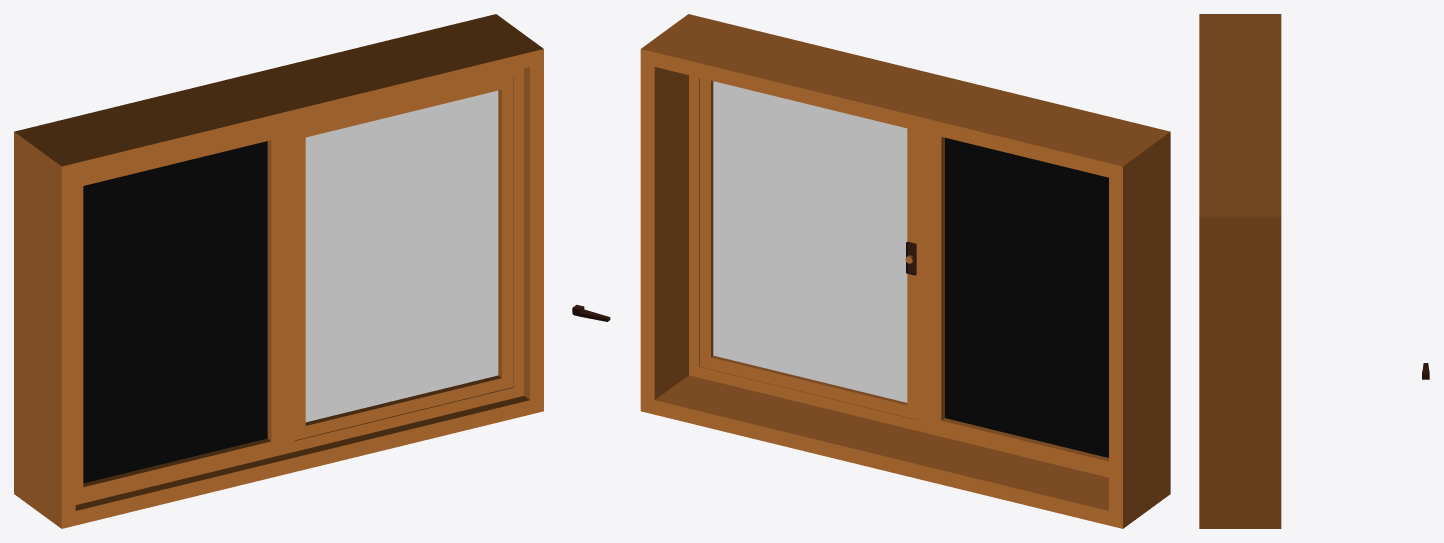
File: Window 8.fbx
3 renders of one model, left to right at view 1: azimuth 30°, elevation 25°; view 2: azimuth 150°, elevation 25°; view 3: azimuth 270°, elevation 25°, orthographic. The views are drawn at different scales.
Parts seen in each view (by area): view 1: Node 1, Node 0, Node 2; view 2: Node 0, Node 1, Node 2; view 3: Node 0.
Part boxes in pixels (x1,y1,x2,y2): Node 1: [75, 68, 523, 504]; Node 0: [14, 14, 543, 528]; Node 2: [295, 76, 513, 440]; Node 0: [640, 14, 1170, 528]; Node 1: [689, 75, 1108, 477]; Node 2: [699, 78, 917, 419]; Node 0: [1199, 14, 1281, 528].
Bounding box in the file's own units: 1.27 × 1.89 × 2.63.
